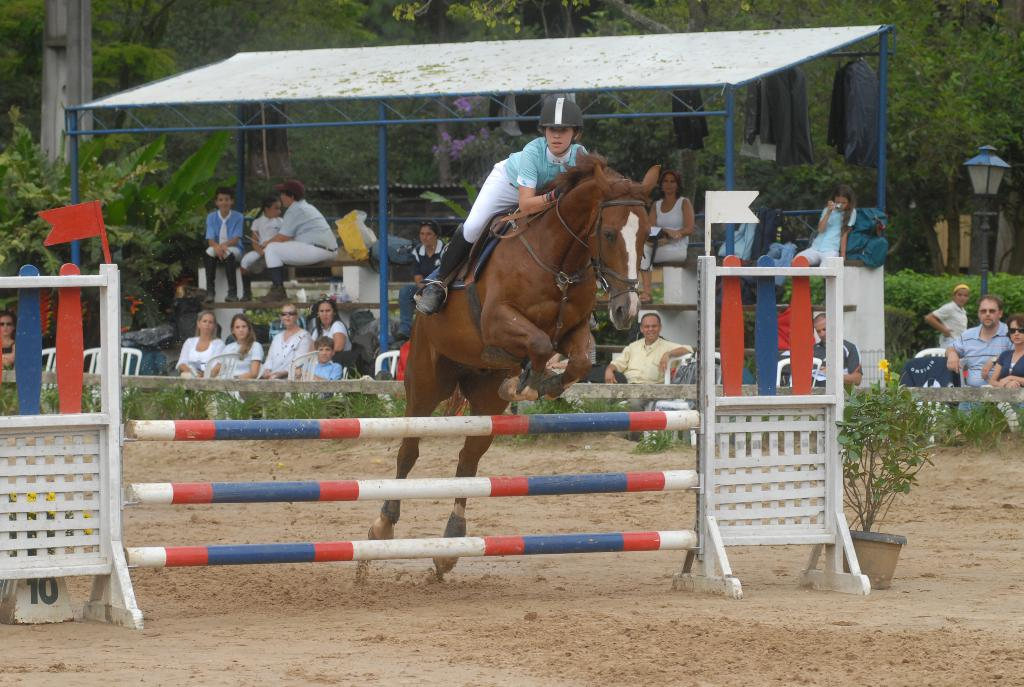Person: (0, 97, 1023, 442)
